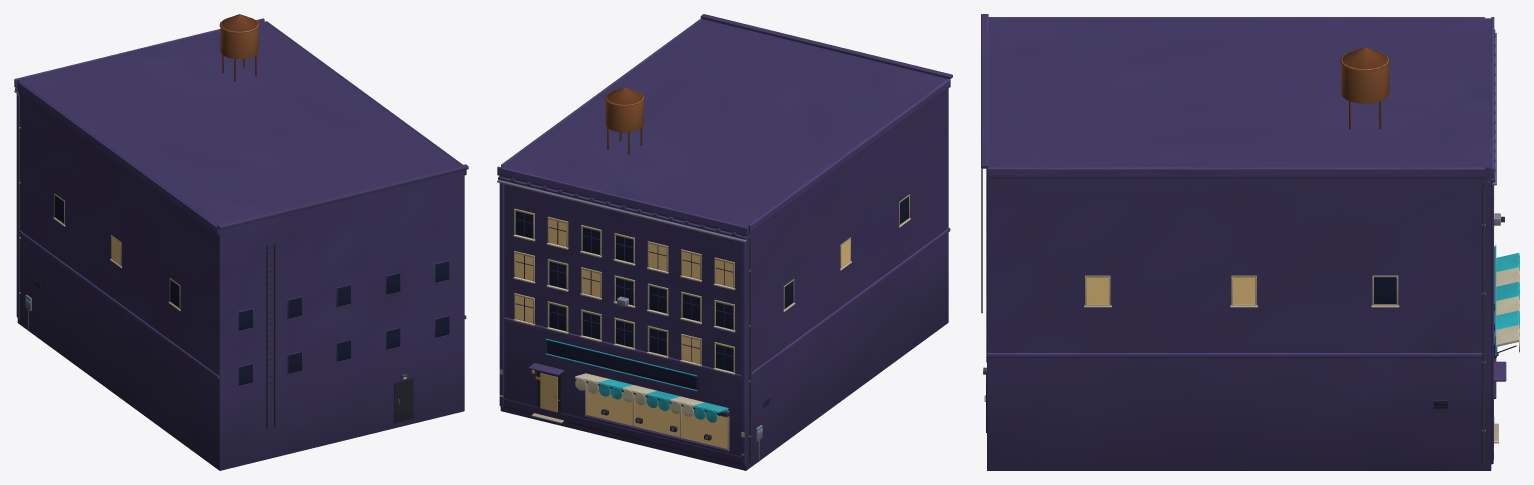
Rendered from SM_City_Bld_CameraSupply.fbx.
The picture shows the model from 3 angles, left to right: view 1: azimuth 30°, elevation 25°; view 2: azimuth 150°, elevation 25°; view 3: azimuth 270°, elevation 25°; orthographic projection. The views are drawn at different scales.
Parts seen in each view (by area): view 1: SM_City_Bld_CameraSupply; view 2: SM_City_Bld_CameraSupply; view 3: SM_City_Bld_CameraSupply.
Boxes of the visible parts, x1,y1,x2,y2 form: SM_City_Bld_CameraSupply: [14, 14, 468, 470]; SM_City_Bld_CameraSupply: [497, 14, 952, 470]; SM_City_Bld_CameraSupply: [981, 14, 1519, 470].
Size of the model in its own units: 1427 by 1660 by 2137.
